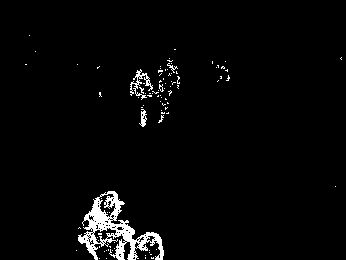person: (78, 189, 138, 260), (155, 59, 182, 123), (131, 68, 154, 129)
